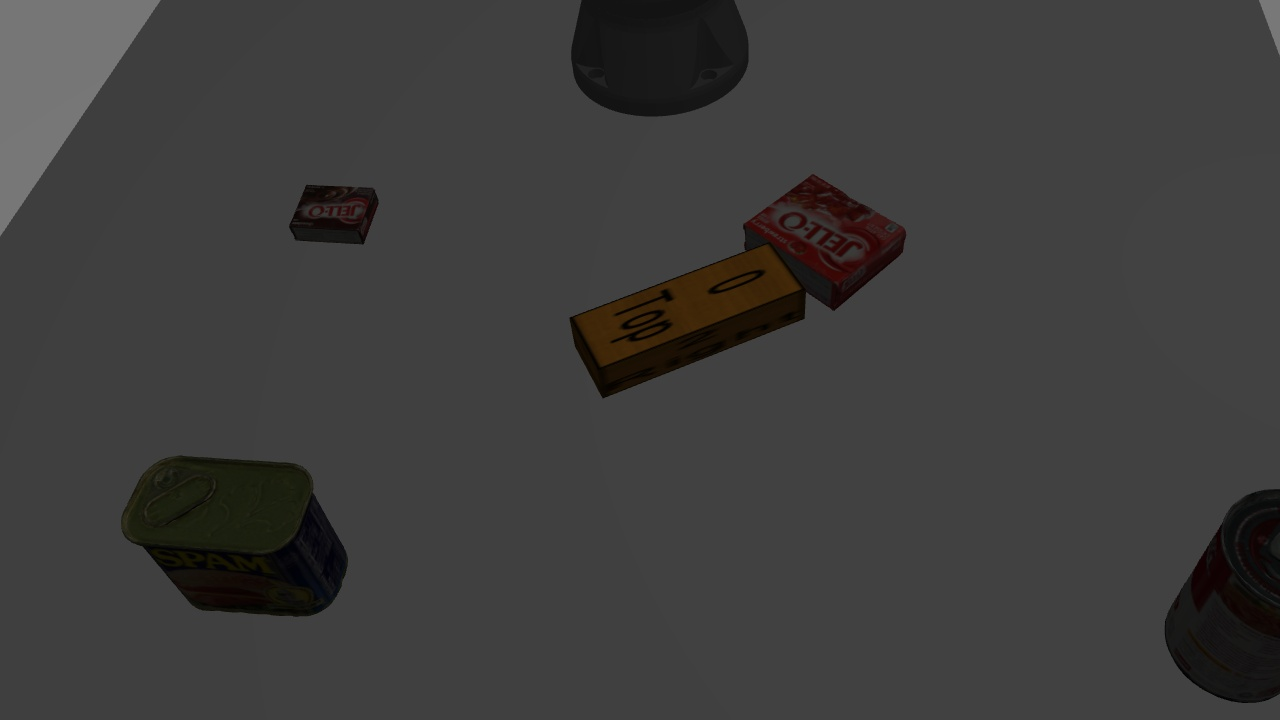gelatin_box: (733, 165, 907, 304)
jenga: (569, 239, 812, 404)
potted_meat_can: (117, 453, 354, 621)
pudding_box: (283, 179, 380, 244)
spoon: (465, 447, 629, 573)
tomato_soup_can: (1164, 463, 1279, 711)
